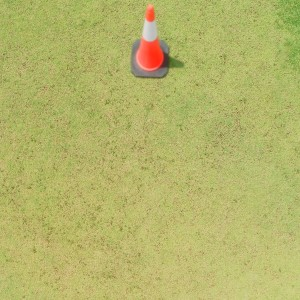traffic cone: (130, 4, 169, 79)
